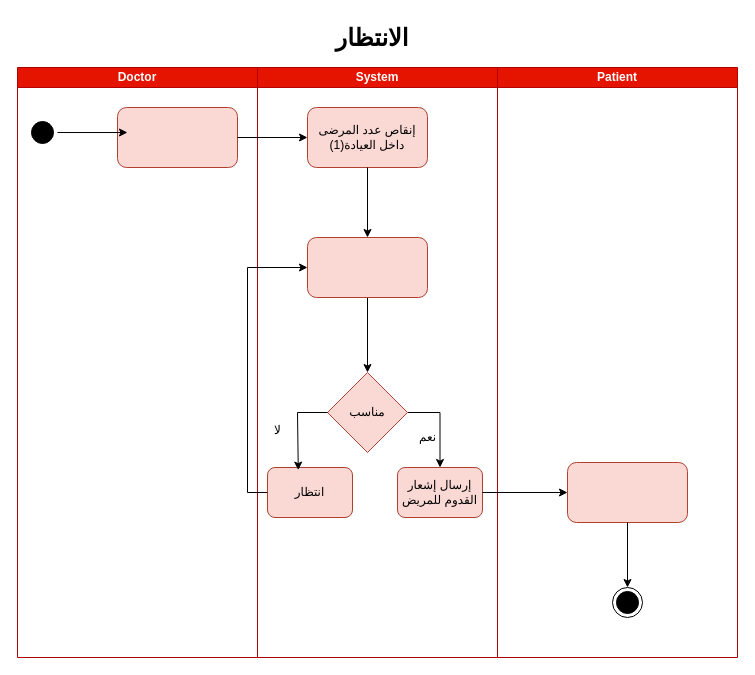
This 755x675 diagram has some shape labels left out. Here are the shapes that lost their labels. From the top down, the box of each, then its label:
(116, 106, 238, 168): إدخال المريض لغرفة المعاينة
(306, 236, 428, 298): تحقق من وقت وصول المريض و عدد المرضى بالعيادة
(566, 462, 688, 522): إستلام الإشعار
